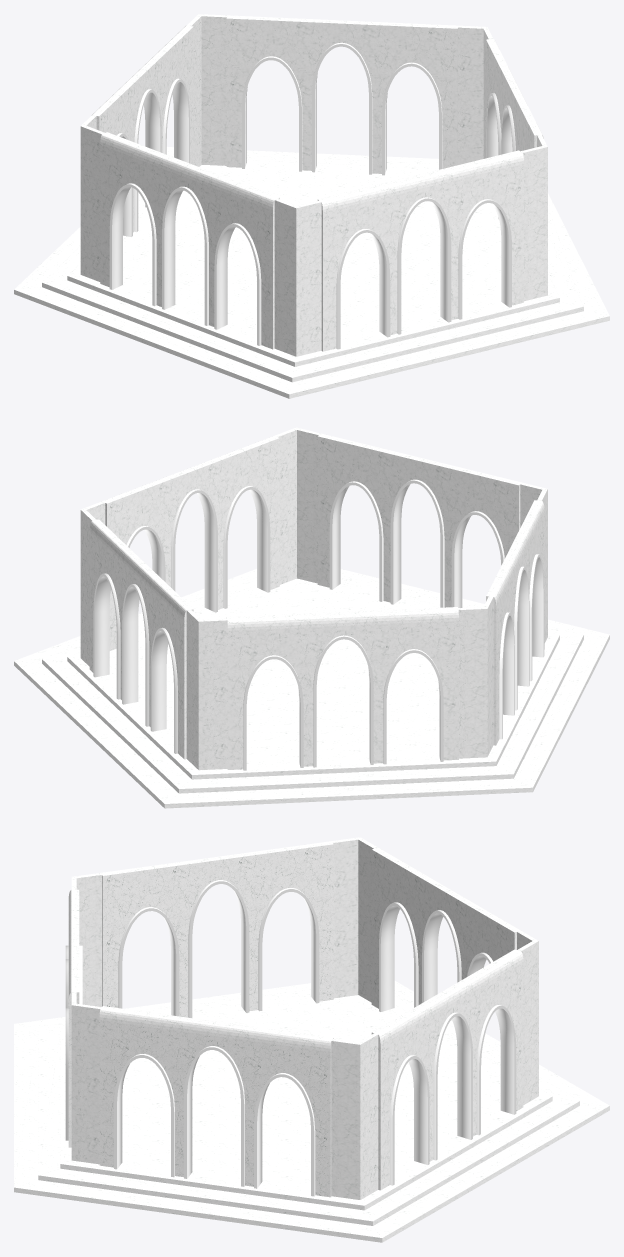
The model's file is TemplePlain.glb.
3 renders of one model, top to bottom at view 1: azimuth 30°, elevation 25°; view 2: azimuth 150°, elevation 25°; view 3: azimuth 270°, elevation 25°, orthographic. The views are drawn at different scales.
Visible parts, largest first — view 1: Building; view 2: Building; view 3: Building.
Boxes of the visible parts, left/top/right/bottom form: Building: left=14, top=14, right=609, bottom=398; Building: left=14, top=427, right=609, bottom=808; Building: left=14, top=837, right=609, bottom=1242.
Size of what is drawn, in the model's own units: 30.29 by 9.03 by 28.81.
3 materials, 3 textured.
